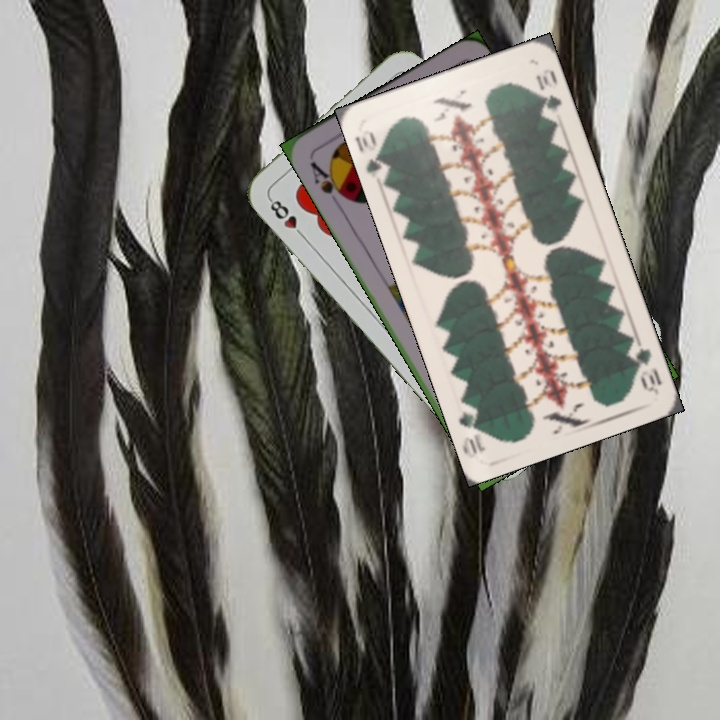G10: (624, 336, 664, 395), (352, 127, 392, 182)
H8: (265, 194, 309, 242)
SA: (306, 158, 351, 209)
